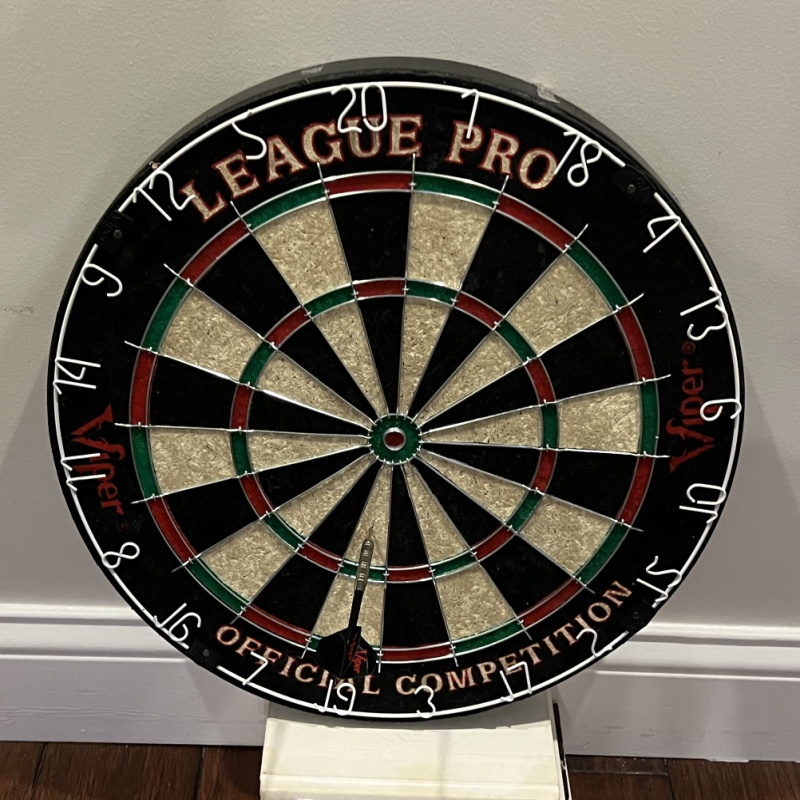dart: (361, 518, 382, 555)
eleven: (60, 450, 107, 488)
six: (699, 399, 743, 421)
three: (412, 684, 439, 719)
twenty: (332, 83, 388, 131)
